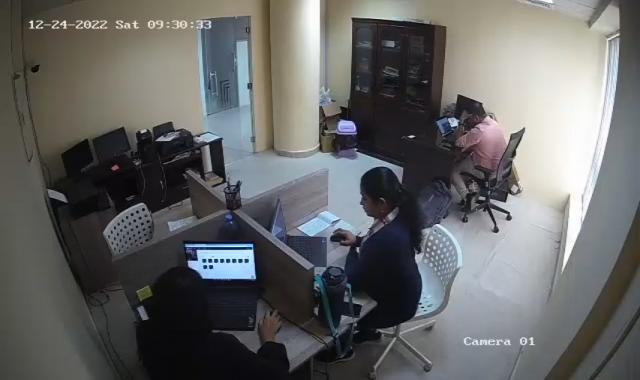no_hairnet: (152, 271, 202, 331), (355, 166, 408, 218), (466, 100, 488, 123)
